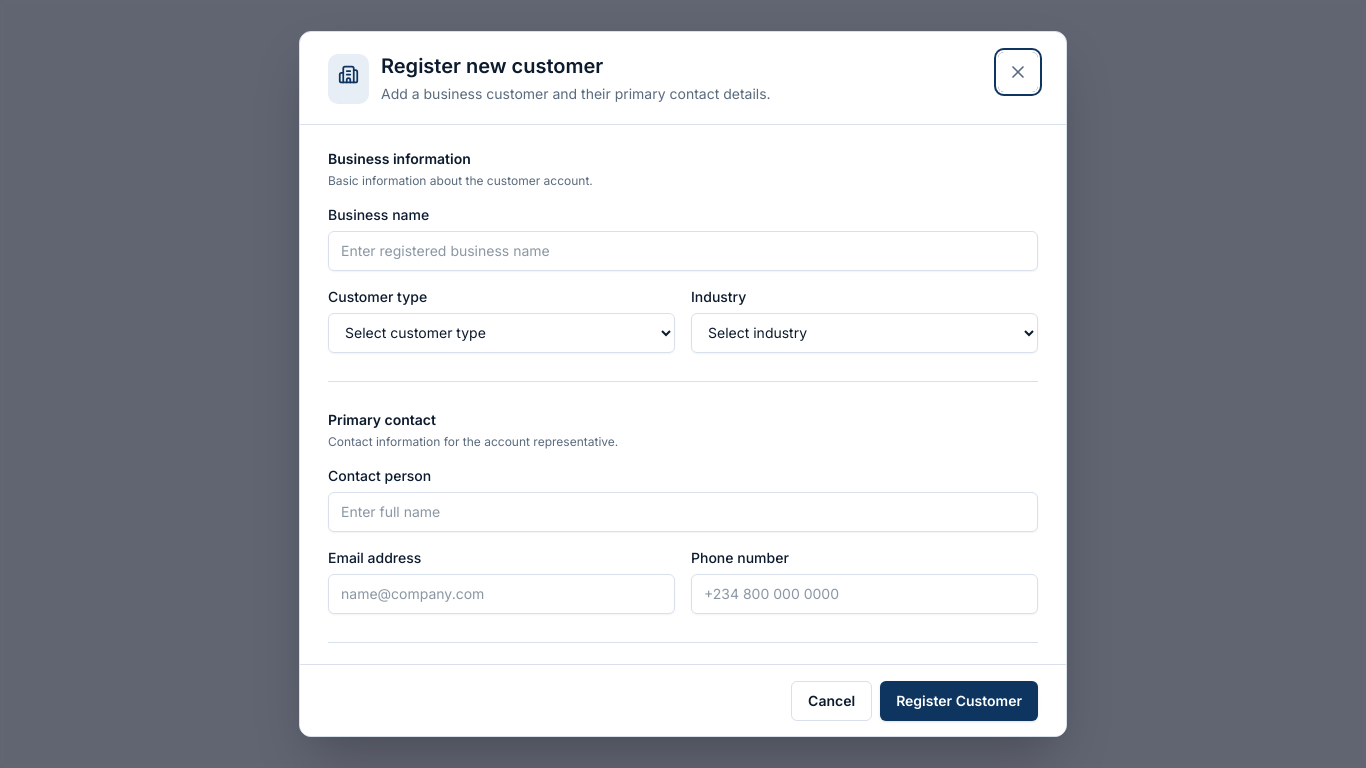
Scenario: RegisterCustomerModal › shows validation errors when submitted with invalid data
Click the button "Register Customer". click: (959, 700)
box: [880, 680, 1038, 720]
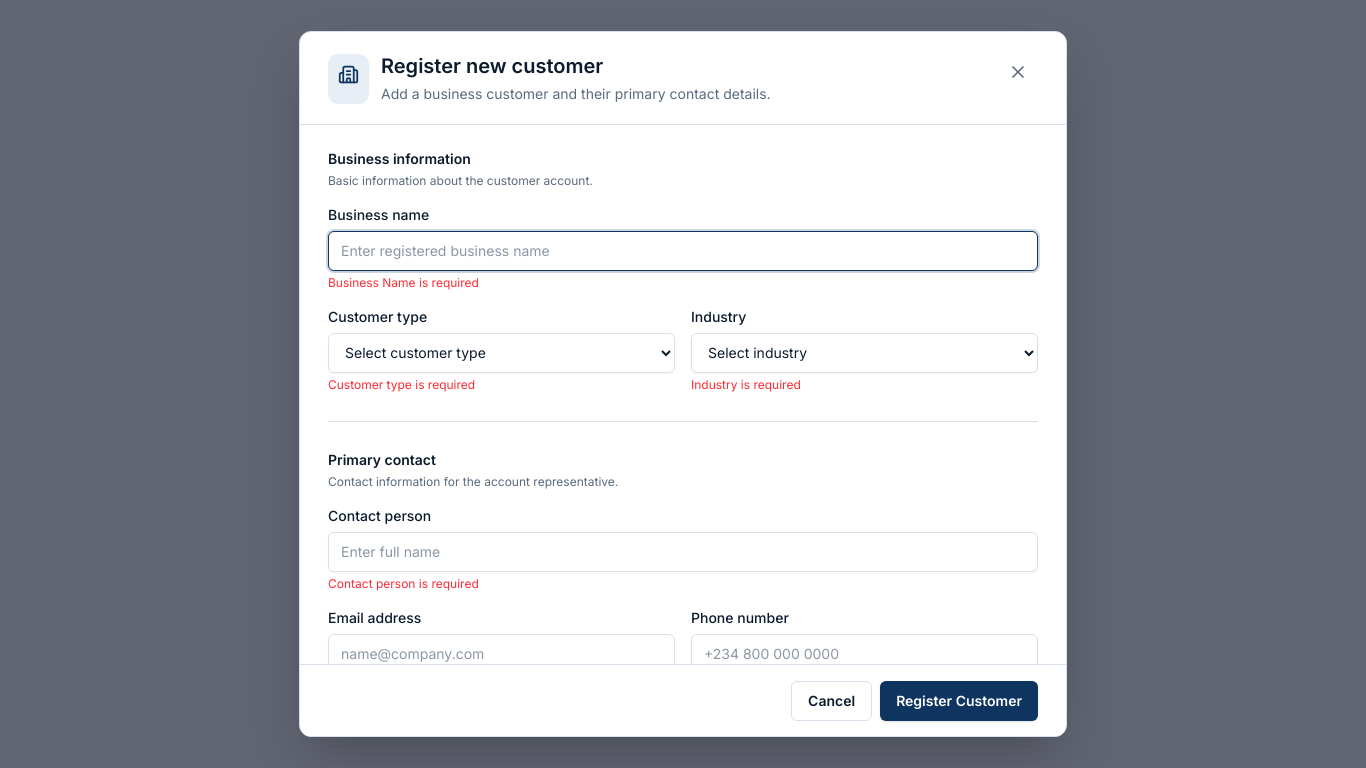
expect the text "Business Name is required" is shown: met, box [328, 275, 479, 290]
